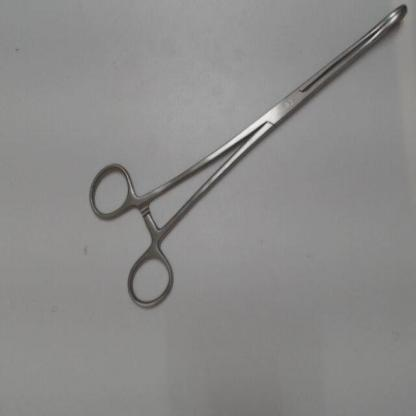Sponge Forceps: (78, 0, 416, 318)
